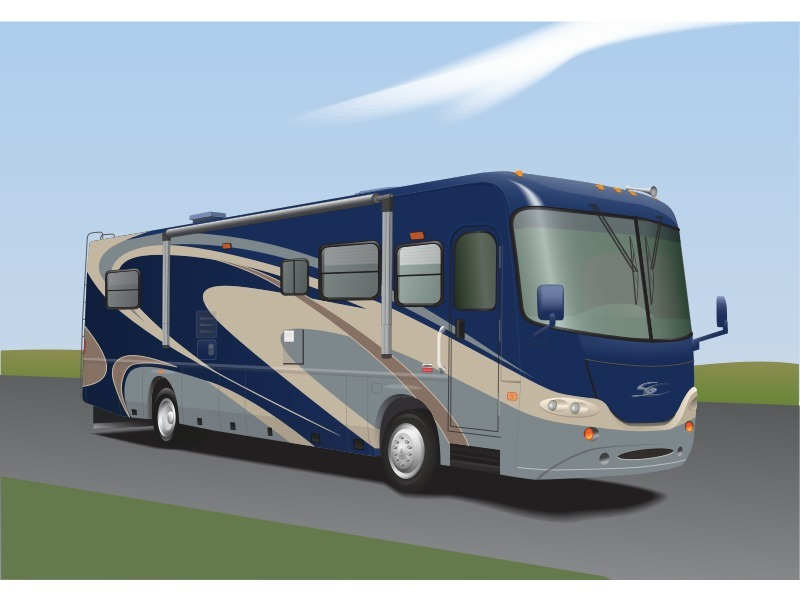bus: (75, 165, 737, 495)
